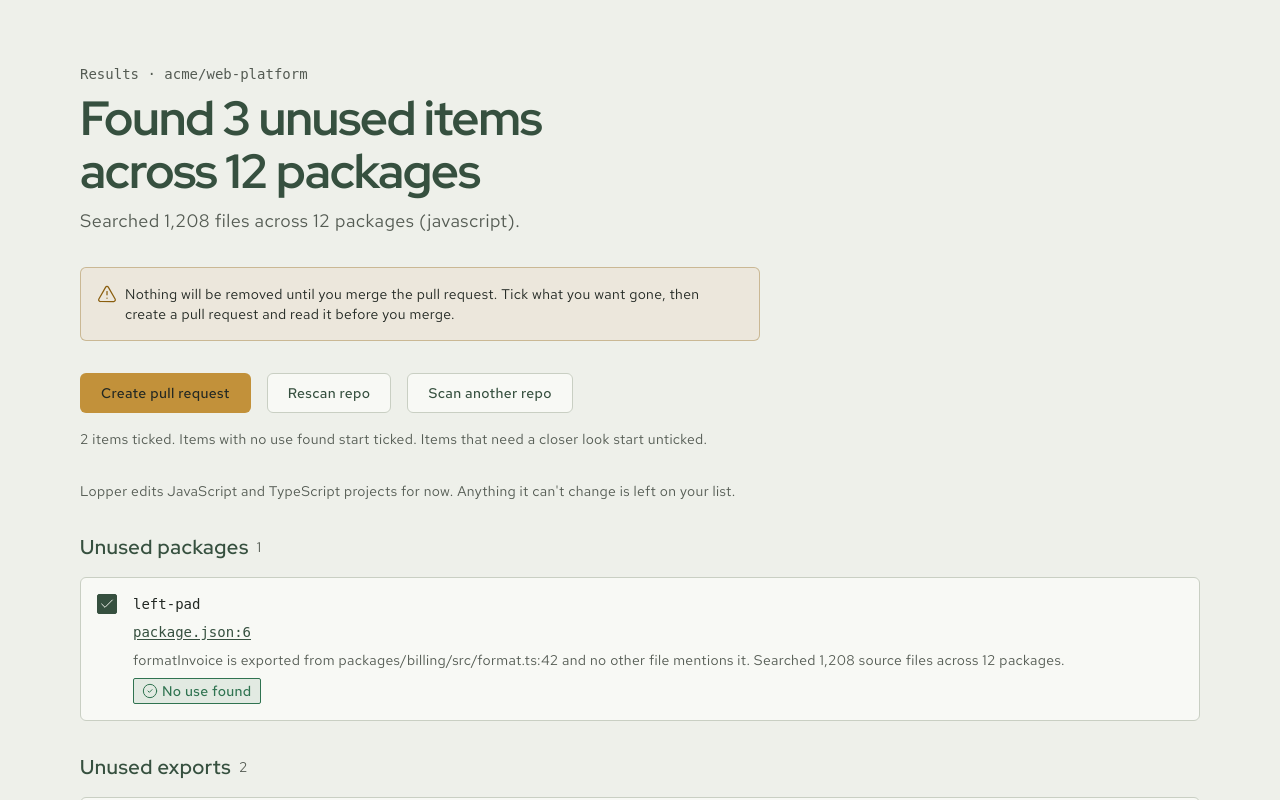
Test case: creating a pull request › asks the server for a pull request and then shows what was made, with a link to it
The image size is (1280, 800).
Expected: the heading "Found 3 unused items across 12 packages" is shown, [80,86,542,203]
Click the button "Create pull request" at (165, 393), box [80,373,251,413]
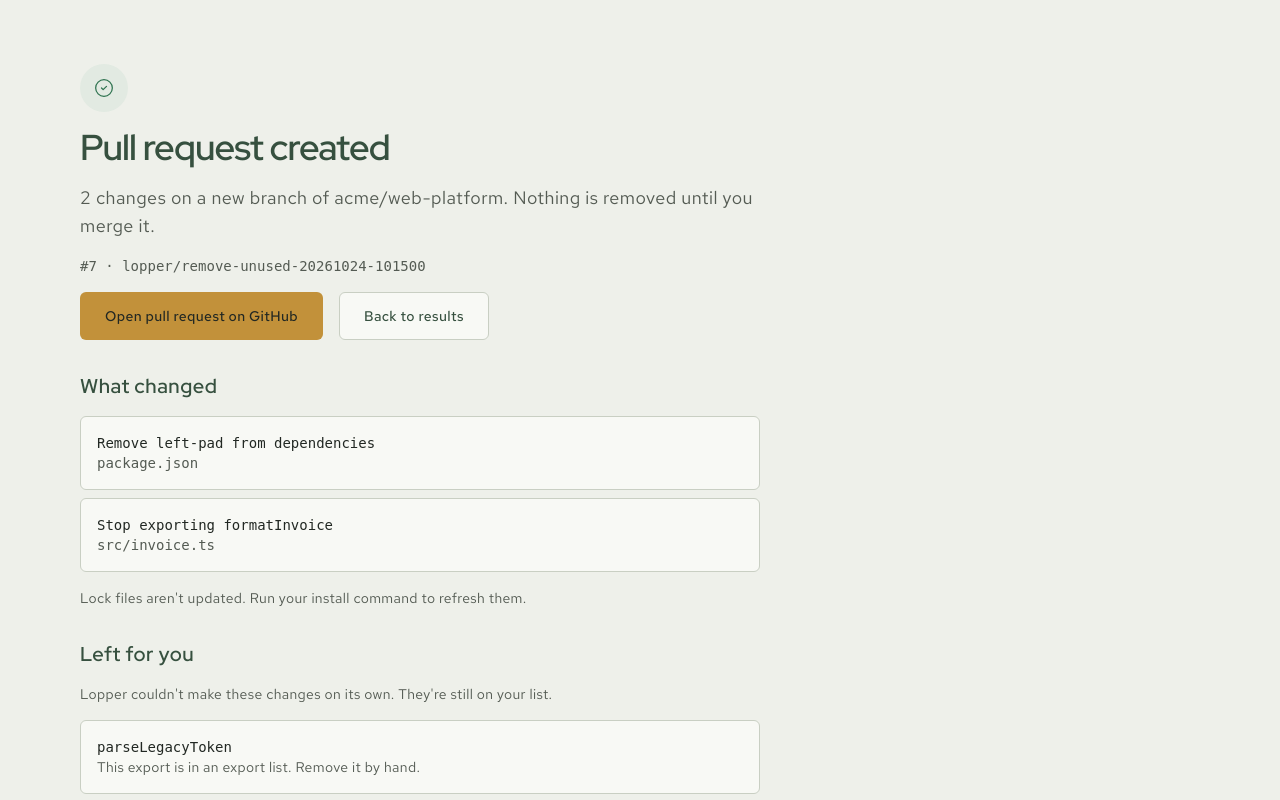
Expected: the heading "Pull request created" is shown, [80,128,390,168]
Expected: the text "2 changes on a new branch of acme/web-platform. Nothing is removed until you merge it." is shown, [80,186,753,237]
Expected: the text "Stop exporting formatInvoice" is shown, [97,517,333,533]
